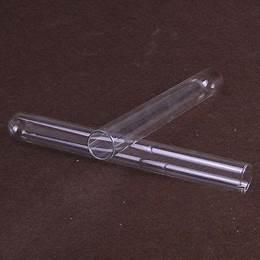Test tube: (9, 49, 248, 231)
